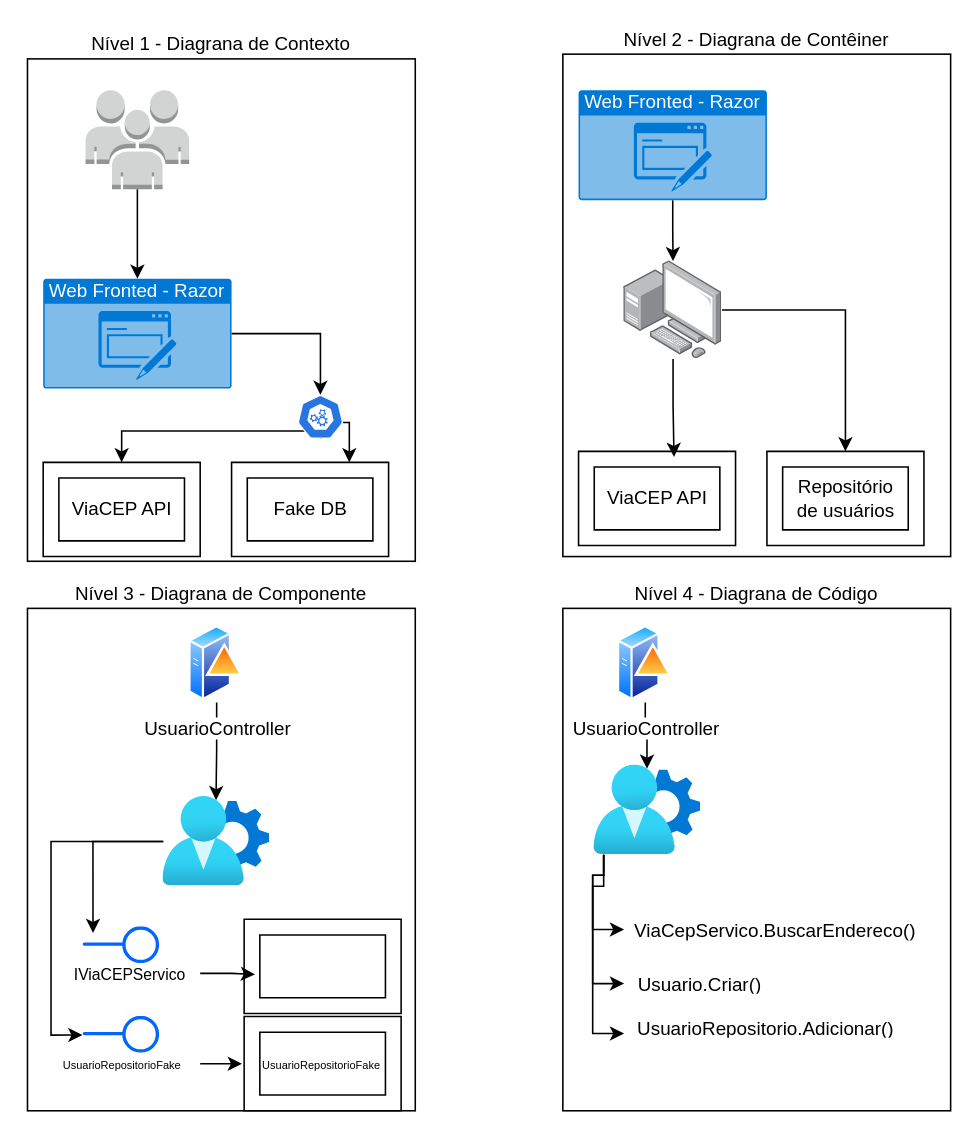
Image size: 978x1138. Some labels were removed from this diagram. The centre of each missing label's shape, as x and y in pixels:
"Api Omniconnect" belongs at point (319, 416).
"ASP.NET Core API" belongs at point (672, 309).
"UsuarioServico" belongs at point (215, 840).
"UsuarioServico.CriarUsuario()" belongs at point (646, 809).
"Usuário Final" belongs at point (136, 139).
"ViaCEPServico" belongs at point (322, 965).
